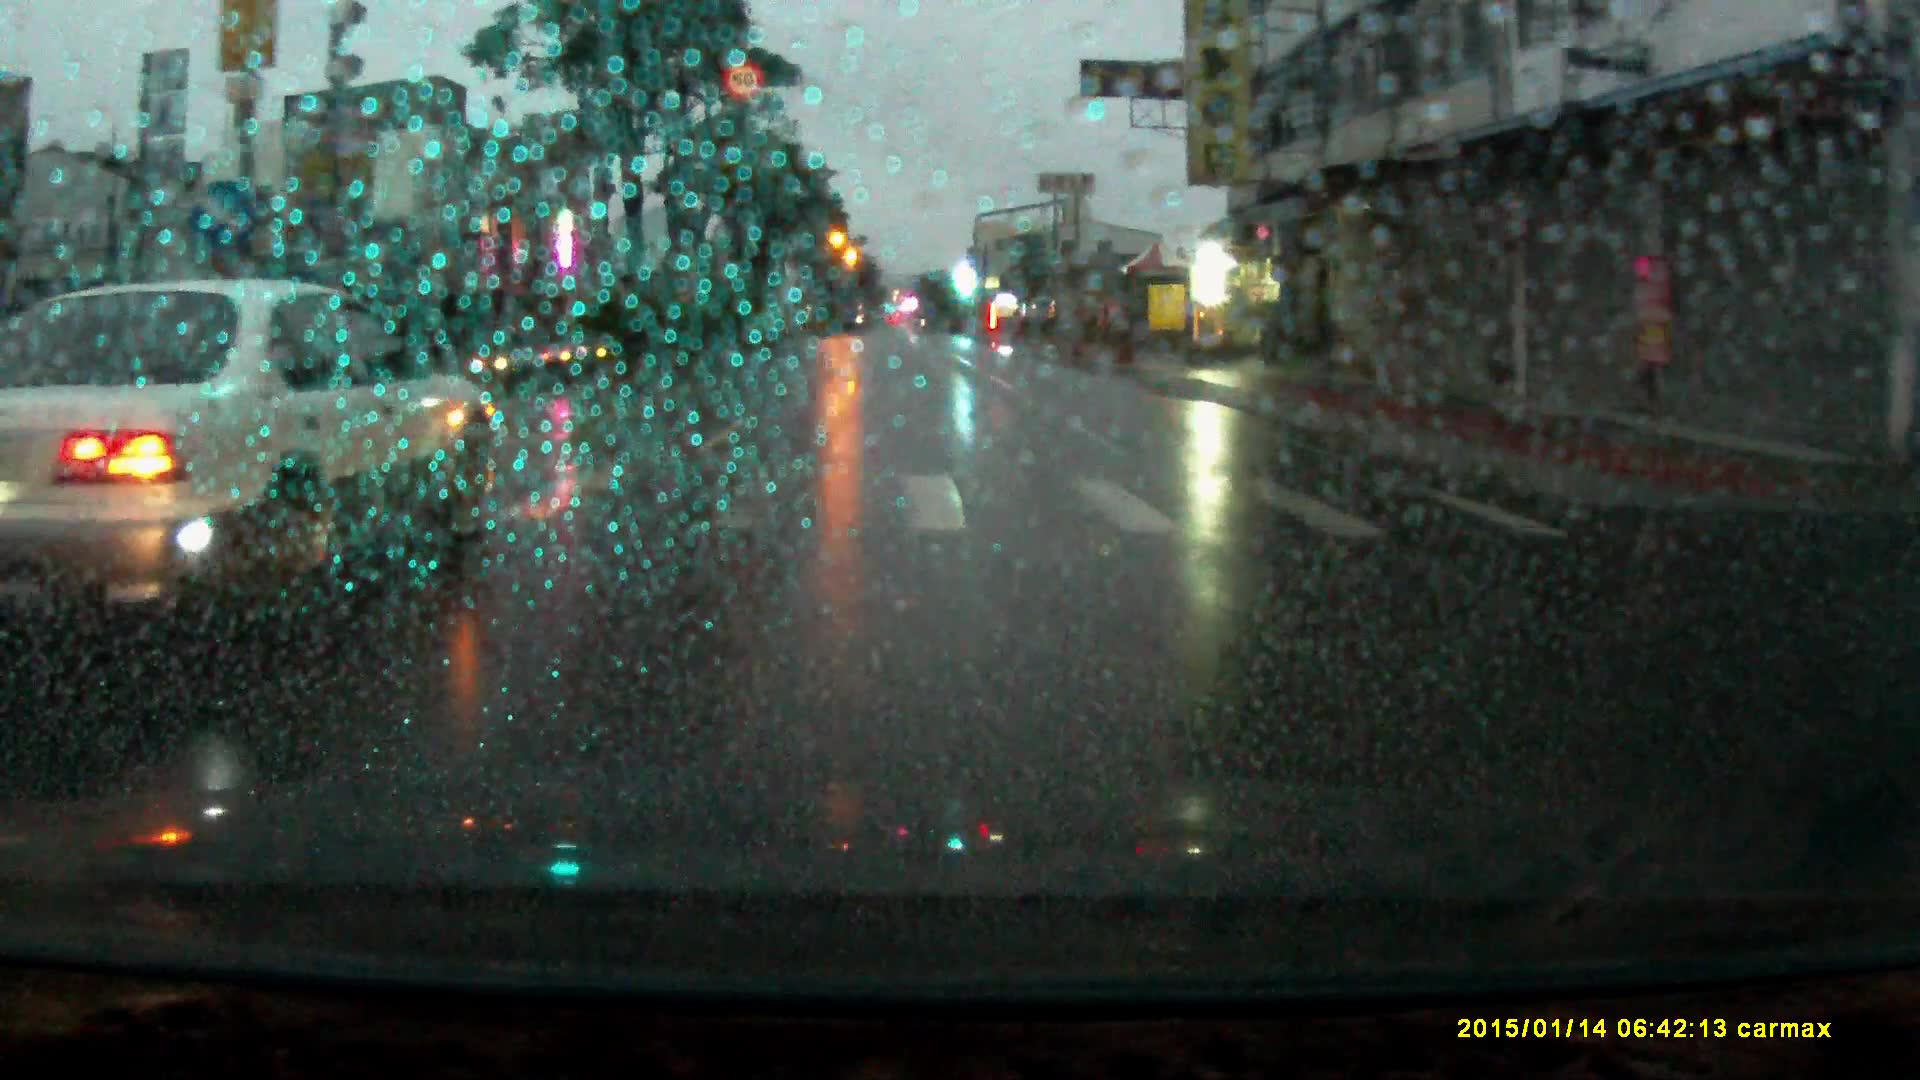vehicle: (1, 284, 506, 636)
